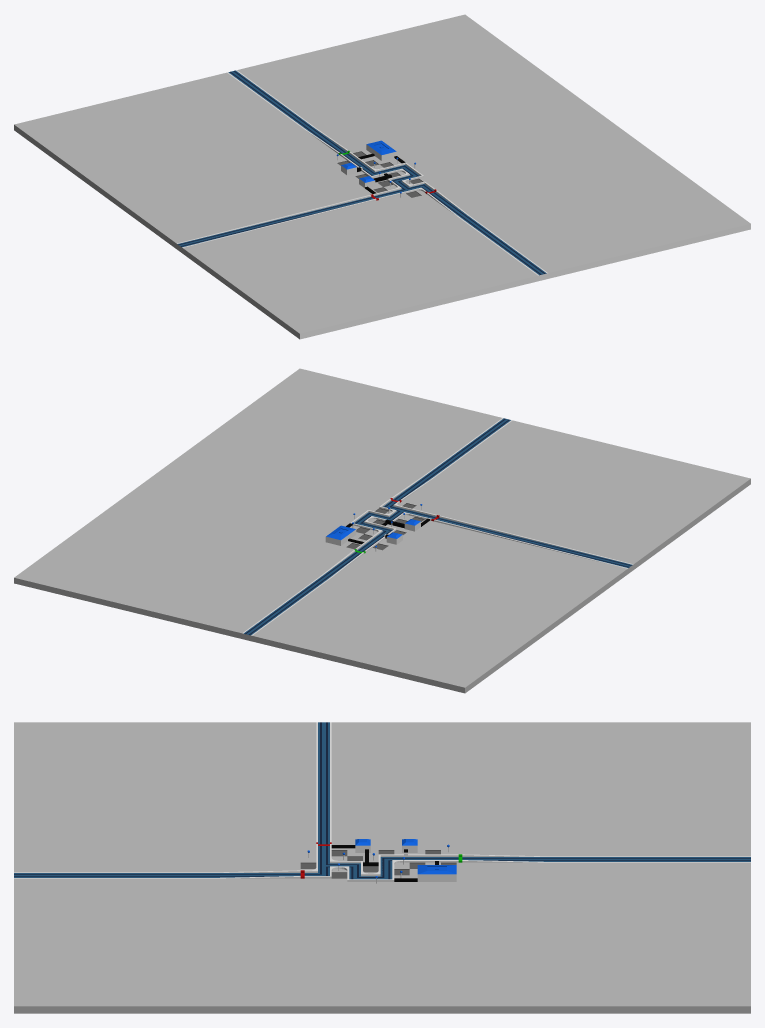
Rendered from Stage5.fbx.
3 renders of one model, top to bottom at view 1: azimuth 30°, elevation 25°; view 2: azimuth 150°, elevation 25°; view 3: azimuth 270°, elevation 25°, orthographic. The views are drawn at different scales.
Parts seen in each view (by area): view 1: Cube; view 2: Cube; view 3: Cube.
Boxes of the visible parts, <box> form: Cube: <box>14,14,750,339</box>; Cube: <box>14,368,750,693</box>; Cube: <box>14,722,750,1013</box>.
Bounding box in the file's own units: 16400 × 450 × 18000.
